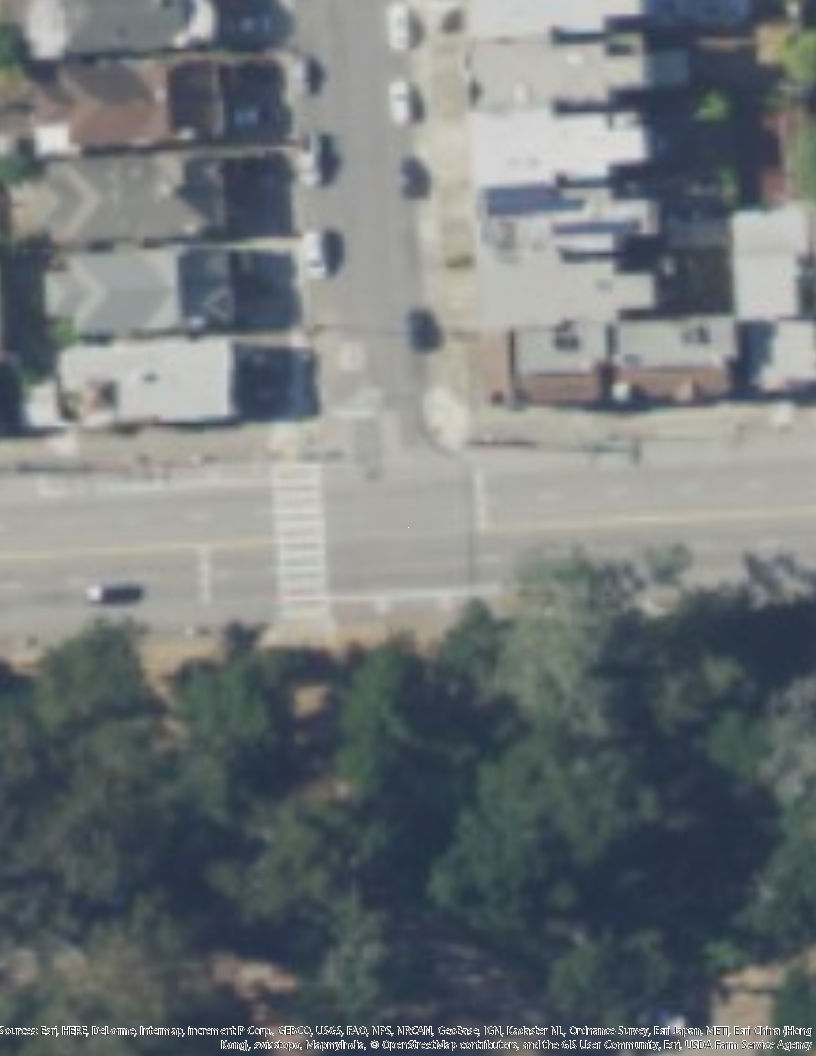zebracross: (271, 463, 329, 618)
